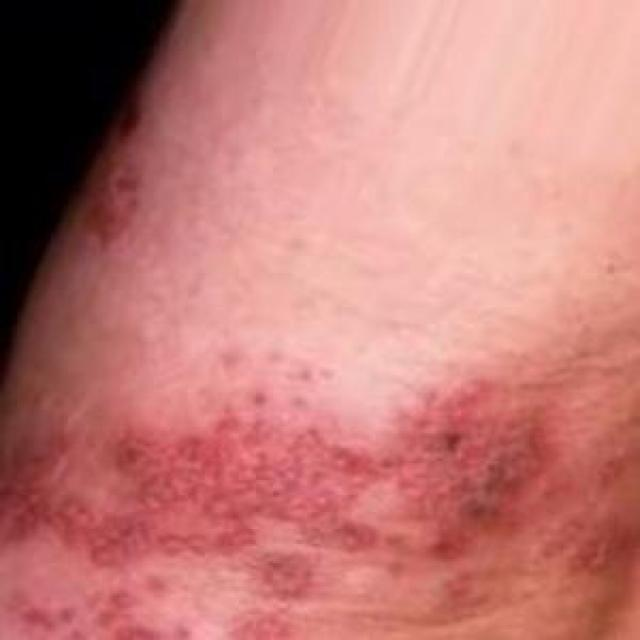Shingles: (0, 393, 569, 598)
